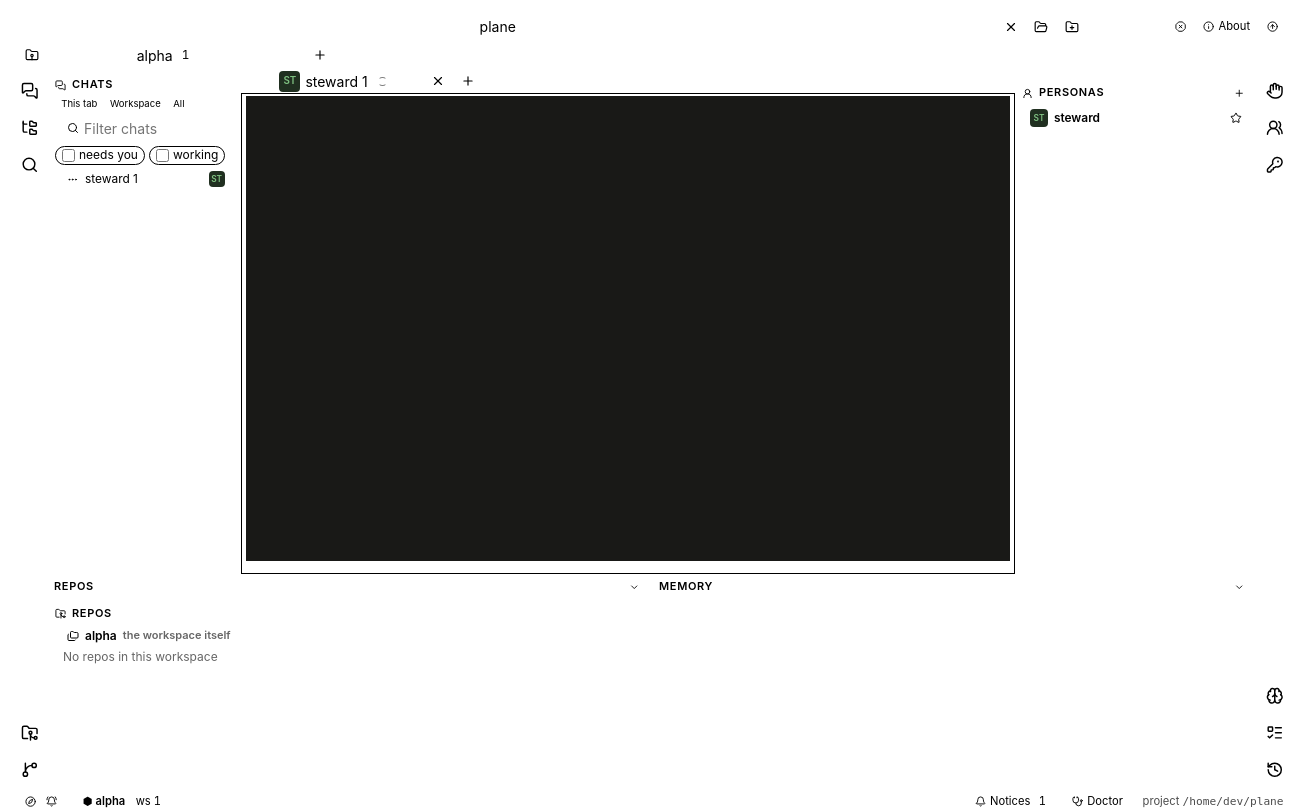
Test case: a persona's own tab › is a mark and a name on the strip, and no chat state, because it has no chat
Click the button "steward" at (1136, 118), box 1022,108 -> 1250,129
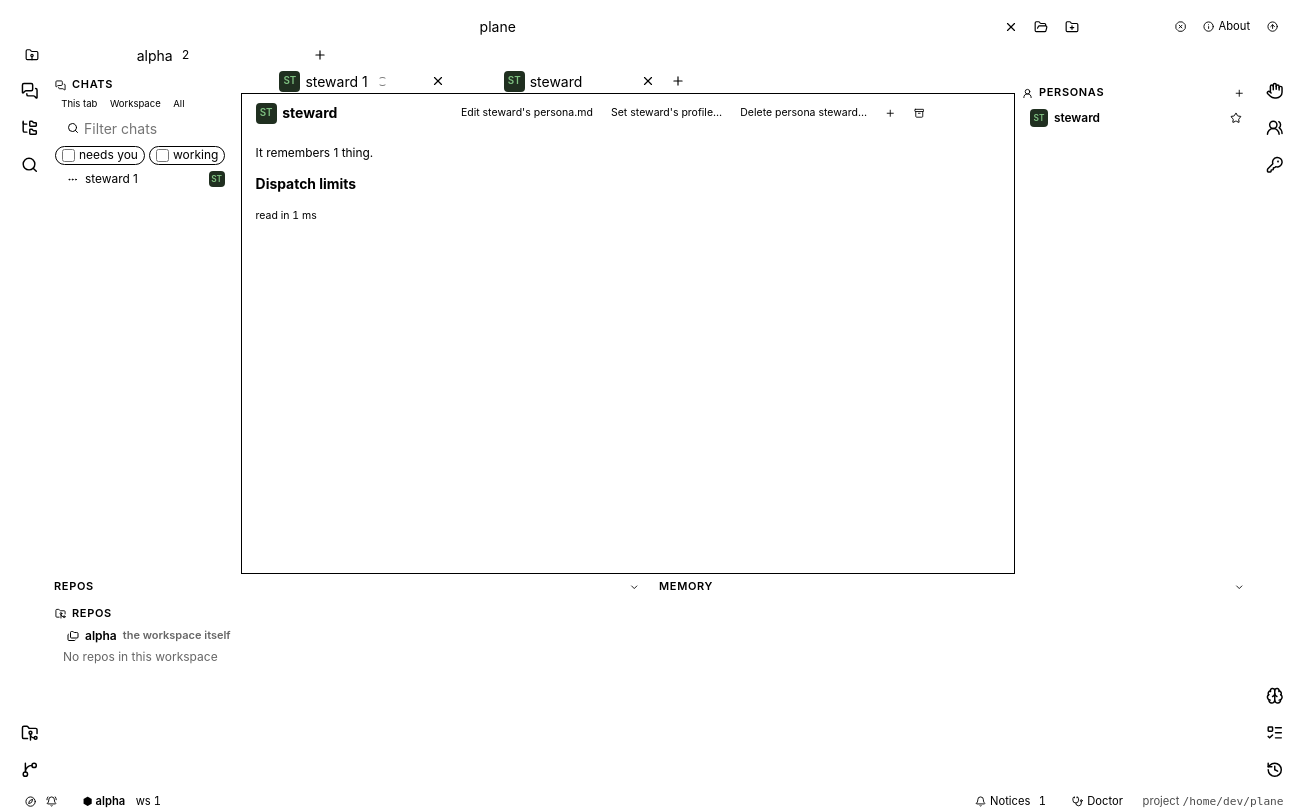
Expected: the 2nd element with class "tab-mark" is shown, 504,71 -> 525,92
